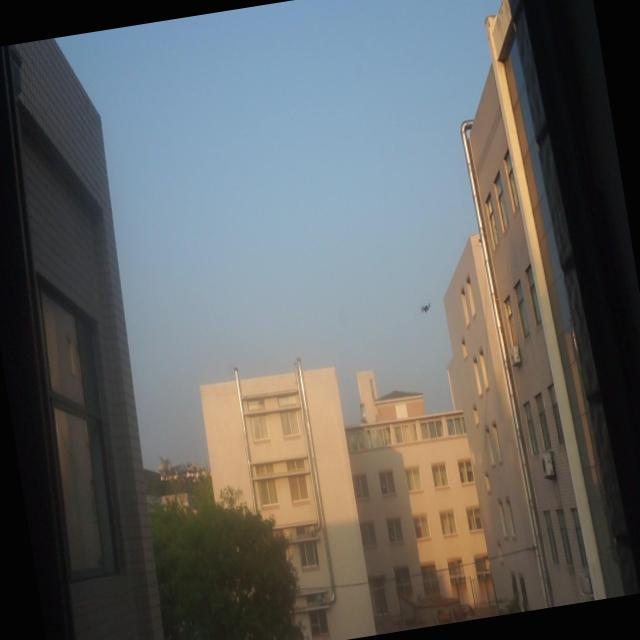drone: (417, 298, 434, 316)
